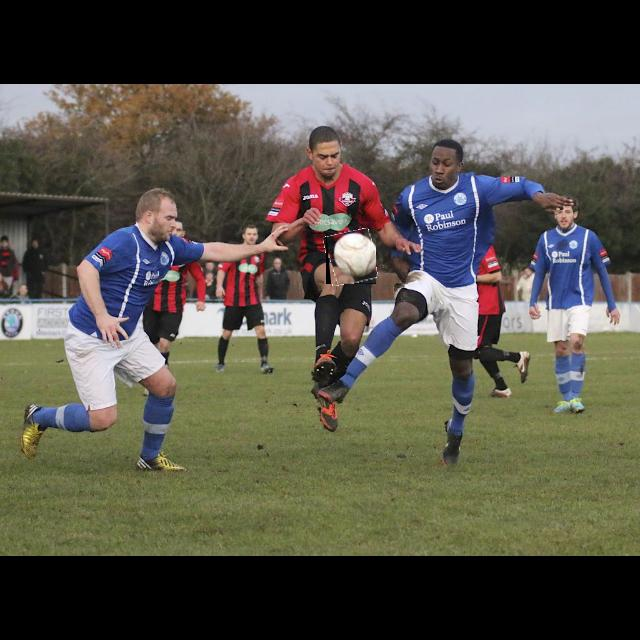Football: (326, 230, 376, 284)
